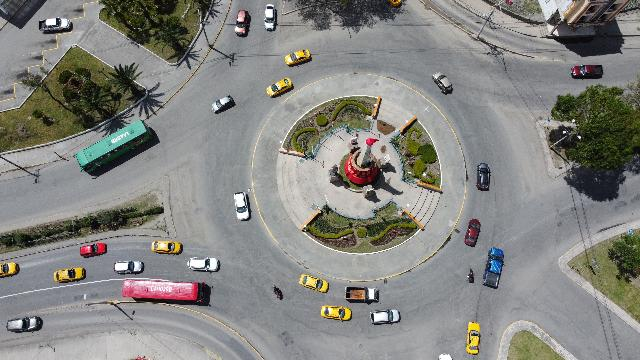Vehiculo: (482, 248, 503, 288), (344, 287, 380, 303), (7, 316, 43, 332), (299, 275, 329, 293), (267, 78, 293, 98), (39, 17, 71, 33), (370, 309, 400, 325), (54, 267, 86, 282), (188, 258, 220, 273), (233, 192, 250, 220), (464, 219, 480, 247), (571, 65, 603, 79), (466, 322, 480, 354), (432, 72, 452, 94), (321, 306, 352, 320), (211, 95, 235, 113), (114, 260, 144, 274), (152, 241, 182, 255), (80, 242, 106, 258), (285, 50, 311, 66), (235, 10, 249, 36), (264, 4, 278, 30), (476, 164, 490, 190), (1, 262, 20, 278), (438, 354, 452, 360)
